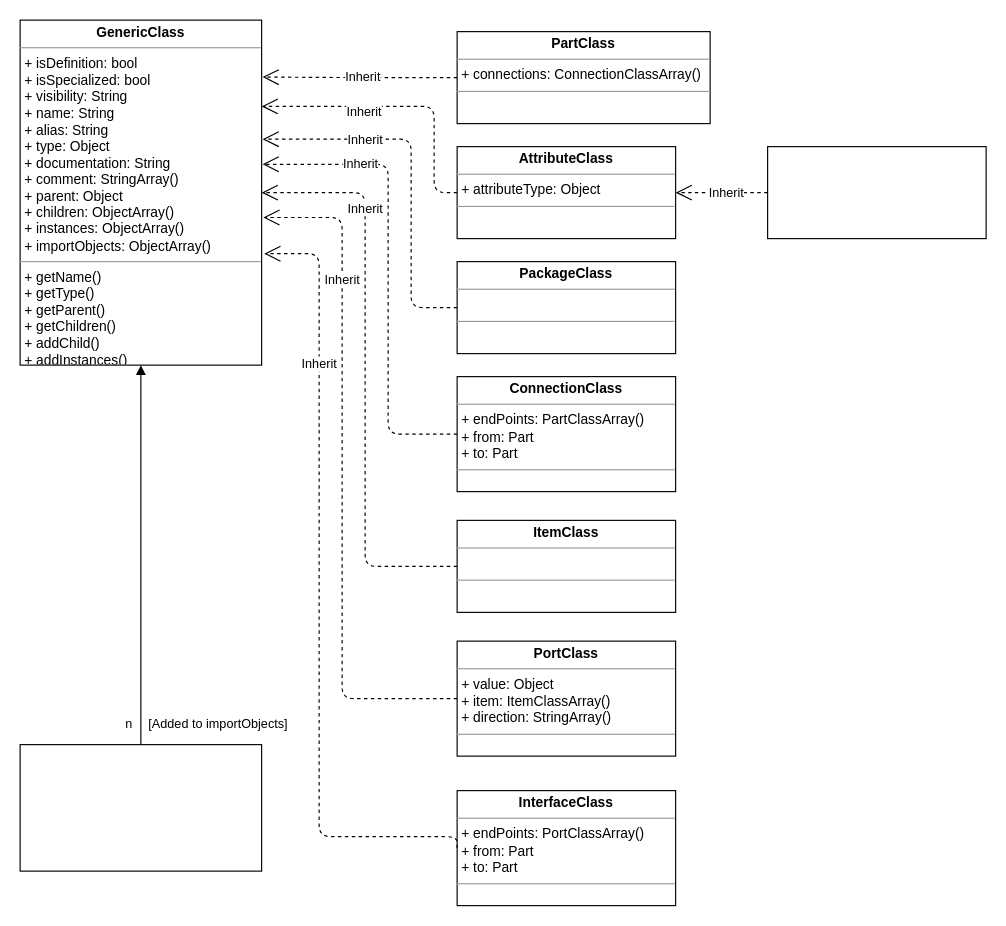
This 1006x926 diagram has some shape labels left out. The shapes that lost their labels are listed below. From the top down, each one's centre as x and y in pixels, then its label:
[876,192]: EnumClass + values: StringArray()
[140,807]: ImportObject + imports: ObjectArray()
